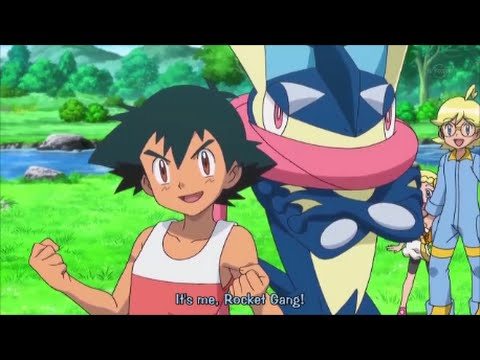greninja: (209, 45, 433, 313)
